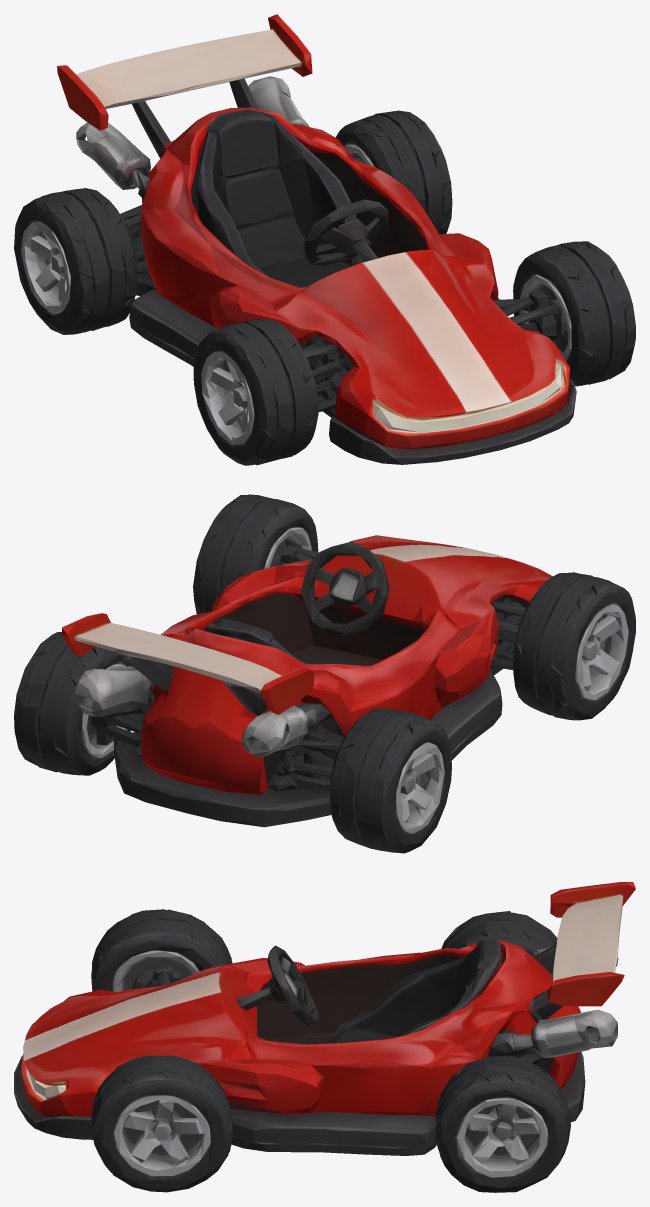
The model's file is crimson-kart-parts-raw.glb.
3 renders of one model, top to bottom at view 1: azimuth 30°, elevation 25°; view 2: azimuth 150°, elevation 25°; view 3: azimuth 270°, elevation 25°, orthographic. The views are drawn at different scales.
Visible parts, largest first — view 1: root.0, root.2, root.4, root.5, root.1, root.3, root.7, root.6; view 2: root.0, root.2, root.4, root.3, root.1, root.5, root.6, root.7; view 3: root.0, root.1, root.3, root.5, root.2, root.6, root.4.
Part boxes in pixels (<box>): root.0: <box>120,78,576,464</box>; root.2: <box>193,319,318,465</box>; root.4: <box>14,188,137,334</box>; root.5: <box>57,14,312,130</box>; root.1: <box>513,241,635,386</box>; root.3: <box>335,110,452,234</box>; root.7: <box>76,122,150,189</box>; root.6: <box>248,76,308,126</box>; root.0: <box>89,535,552,827</box>; root.2: <box>513,572,635,720</box>; root.4: <box>329,708,451,853</box>; root.3: <box>14,632,132,775</box>; root.1: <box>193,494,318,614</box>; root.5: <box>62,613,314,714</box>; root.6: <box>75,666,150,716</box>; root.7: <box>241,705,307,757</box>; root.0: <box>14,939,585,1155</box>; root.1: <box>91,1055,233,1192</box>; root.3: <box>435,1056,570,1192</box>; root.5: <box>547,882,635,1006</box>; root.2: <box>91,909,232,991</box>; root.6: <box>531,1009,617,1058</box>; root.4: <box>441,911,557,955</box>.
Bounding box in the file's own units: 1.24 × 0.6279 × 1.89.
8 materials, 8 textured.
